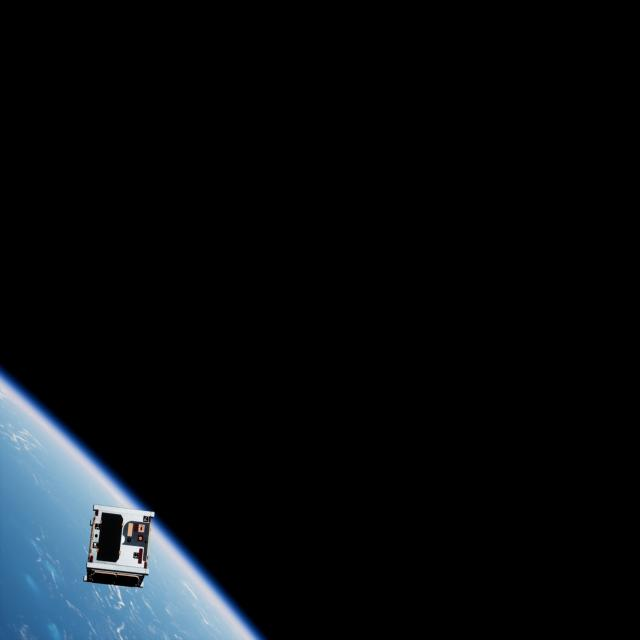medium_debris: (74, 495, 159, 597)
